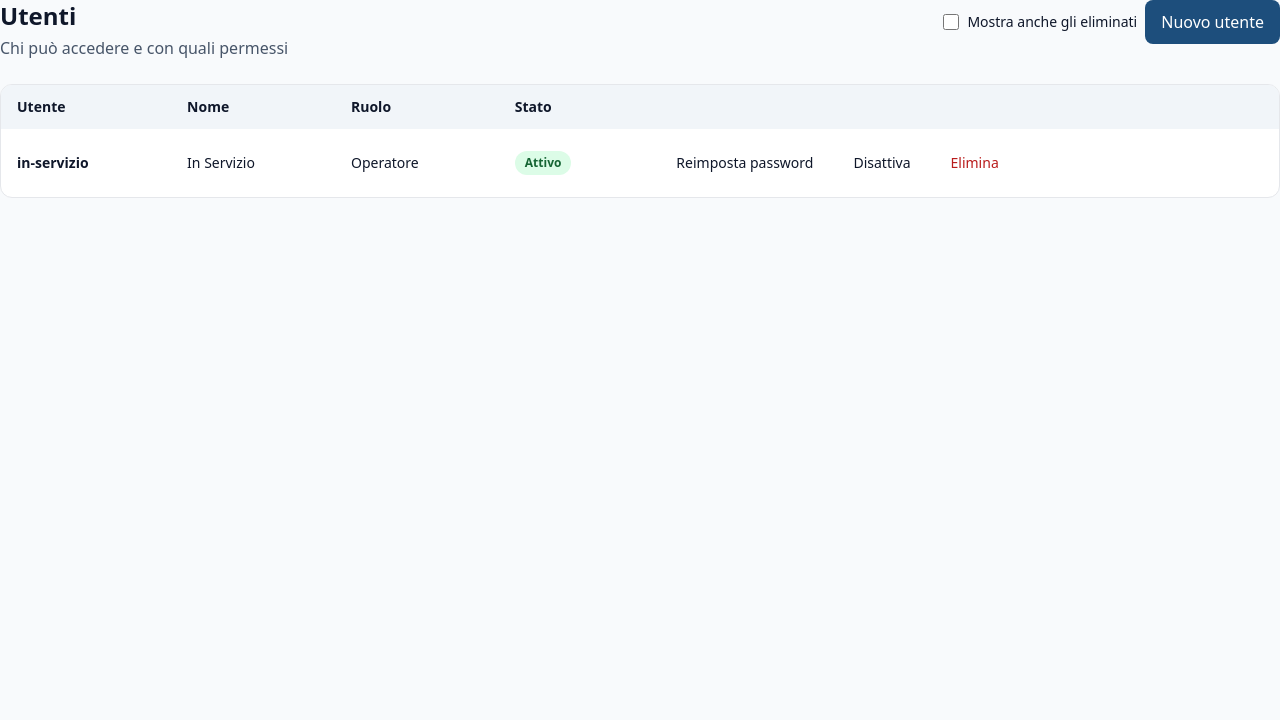
Test: UsersAdmin › dopo l'eliminazione mostra l'account chiuso invece di farlo sparire
Click the button "Elimina": point(975, 163) [934, 141, 1015, 185]
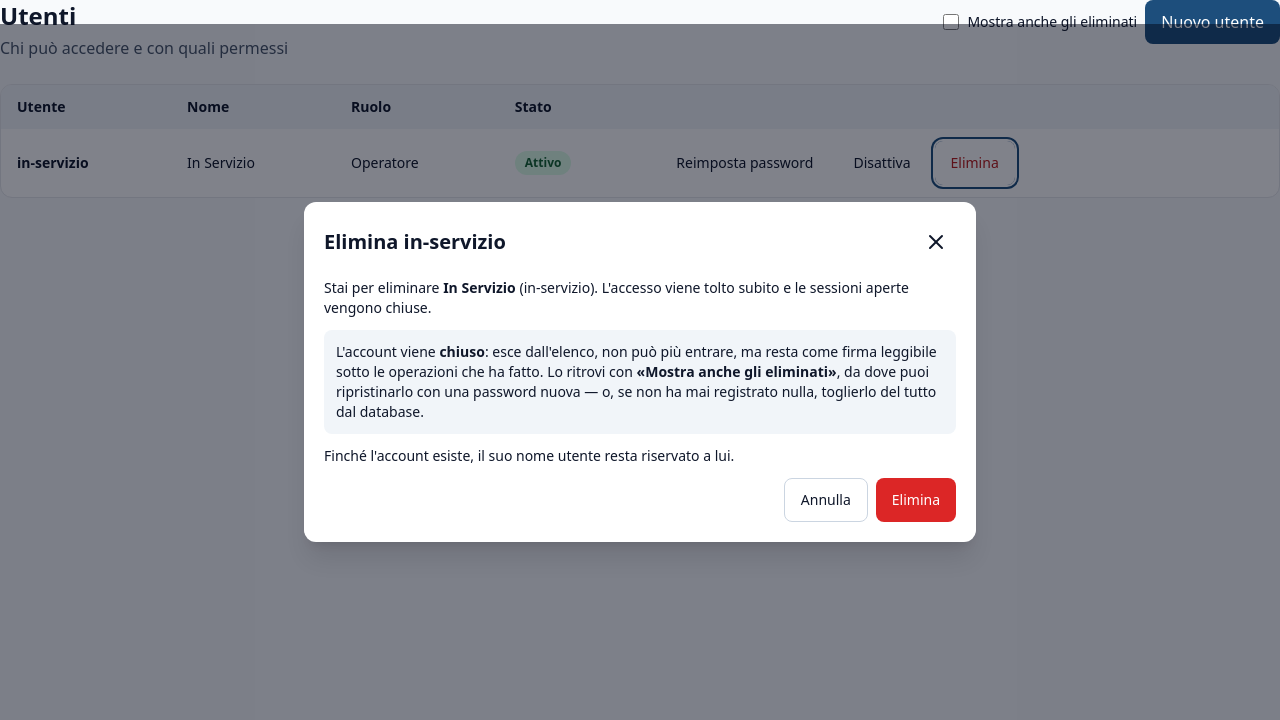
Click the button "Elimina": point(916, 500) [876, 478, 956, 522]
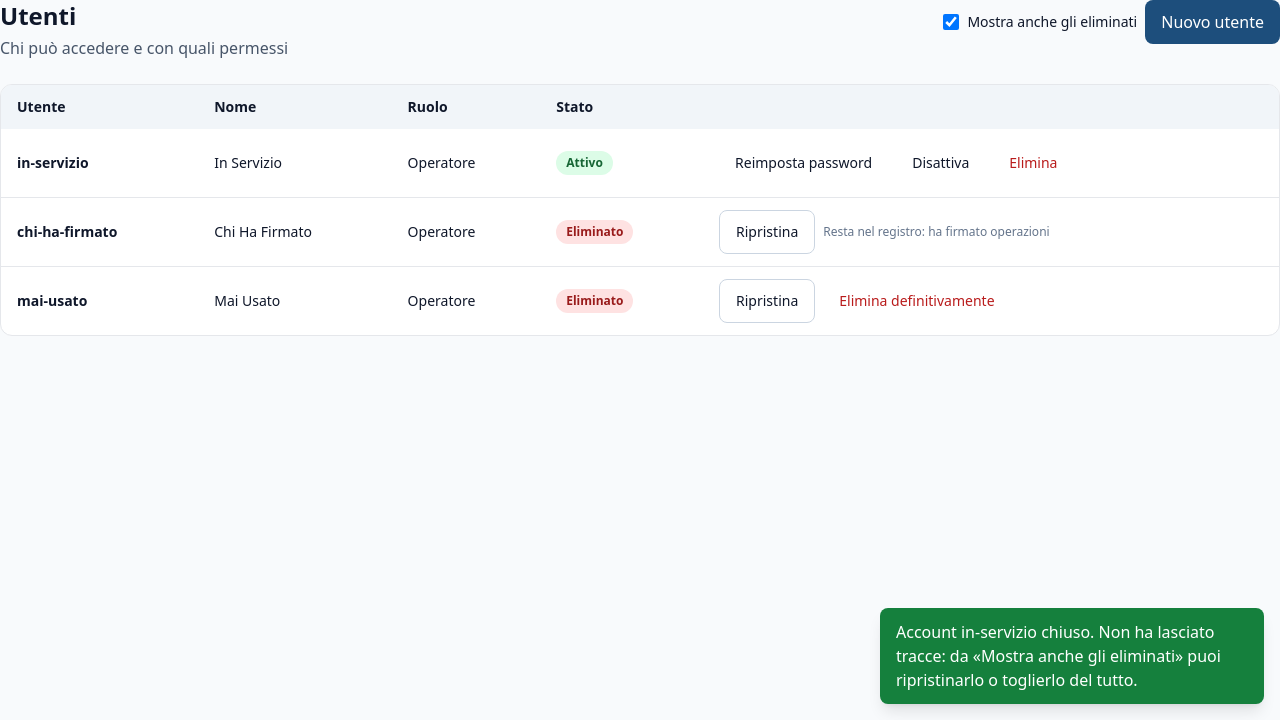
Expected: the checkbox labelled "Mostra anche gli eliminati" is checked, [943, 14, 959, 30]
Expected: the text "chi-ha-firmato" is shown, [17, 222, 117, 241]
